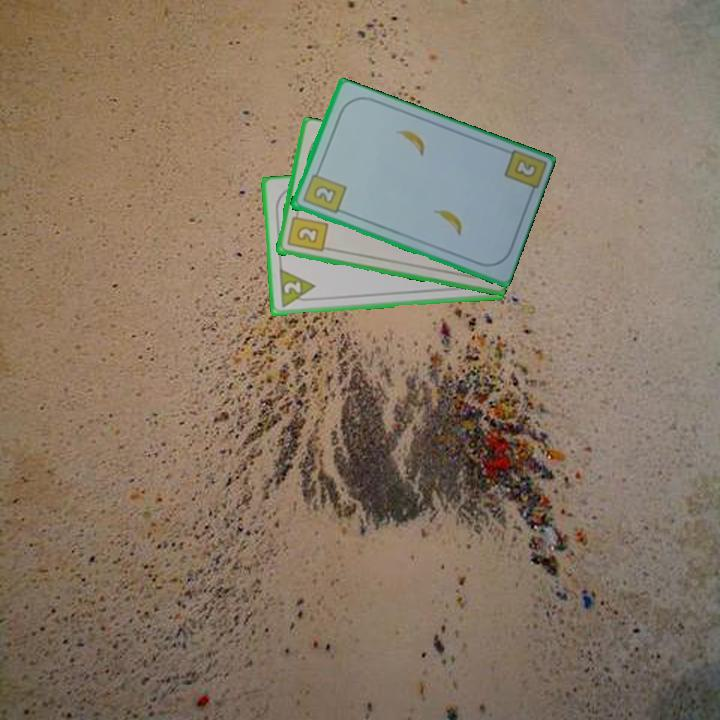2b: (299, 166, 348, 216), (500, 147, 546, 200), (283, 207, 330, 255)
2p: (276, 266, 318, 311)
